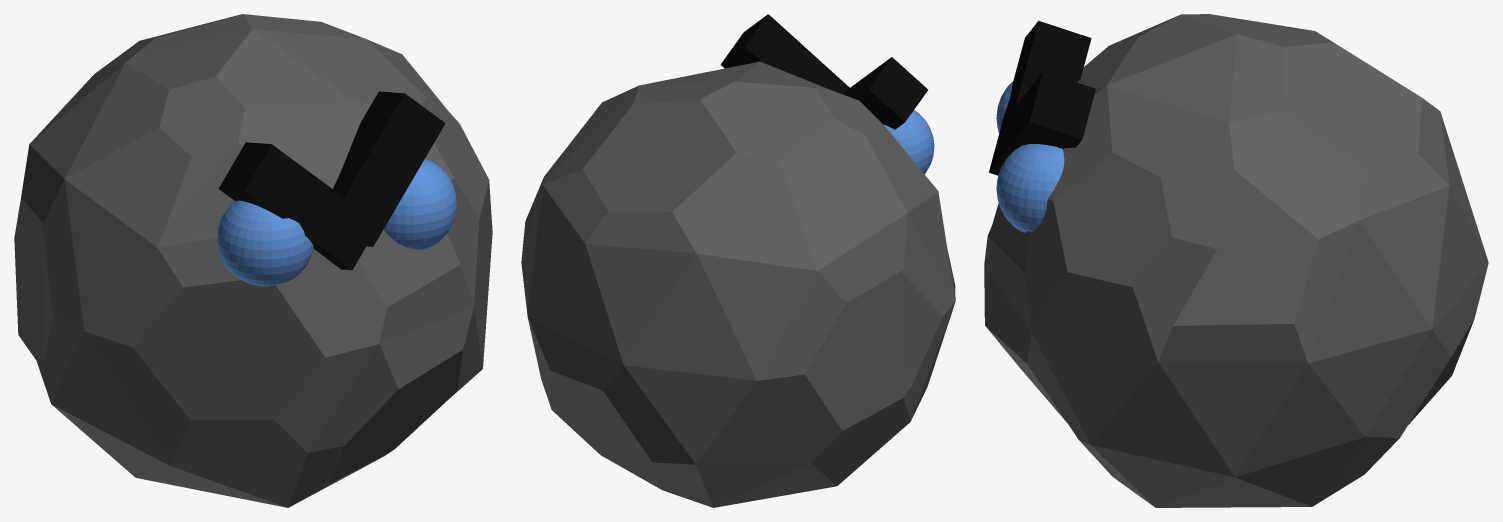
File: Heavy.fbx
3 views of the same model, side by side, from view 1: azimuth 30°, elevation 25°; view 2: azimuth 150°, elevation 25°; view 3: azimuth 270°, elevation 25° (orthographic). The views are drawn at different scales.
Visible parts, largest first — view 1: Icosphere; view 2: Icosphere; view 3: Icosphere.
Boxes of the visible parts, x1,y1,x2,y2 form: Icosphere: [14, 14, 492, 507]; Icosphere: [521, 14, 955, 507]; Icosphere: [984, 14, 1488, 507].
Size of the model in its own units: 407 by 418 by 415.
